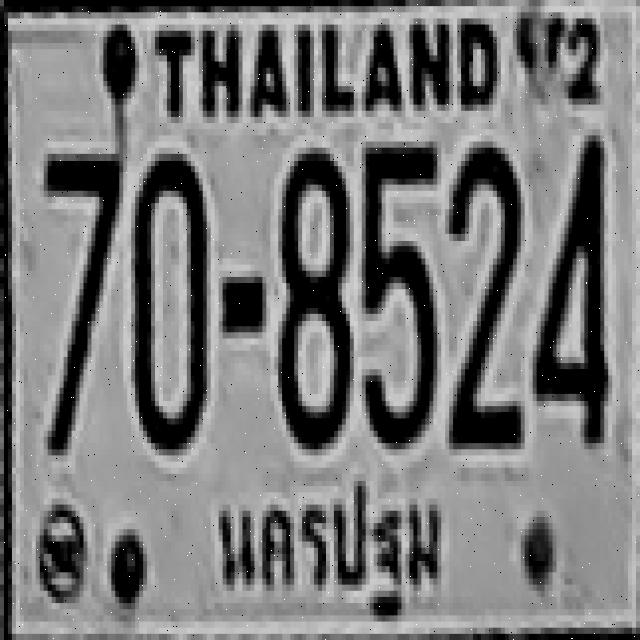0: (131, 148, 207, 450)
2: (447, 142, 519, 444)
4: (528, 132, 604, 440)
5: (360, 142, 436, 444)
7: (44, 150, 120, 452), (44, 148, 120, 357)
8: (276, 148, 348, 444)
NakhonPathom: (201, 465, 447, 615)
